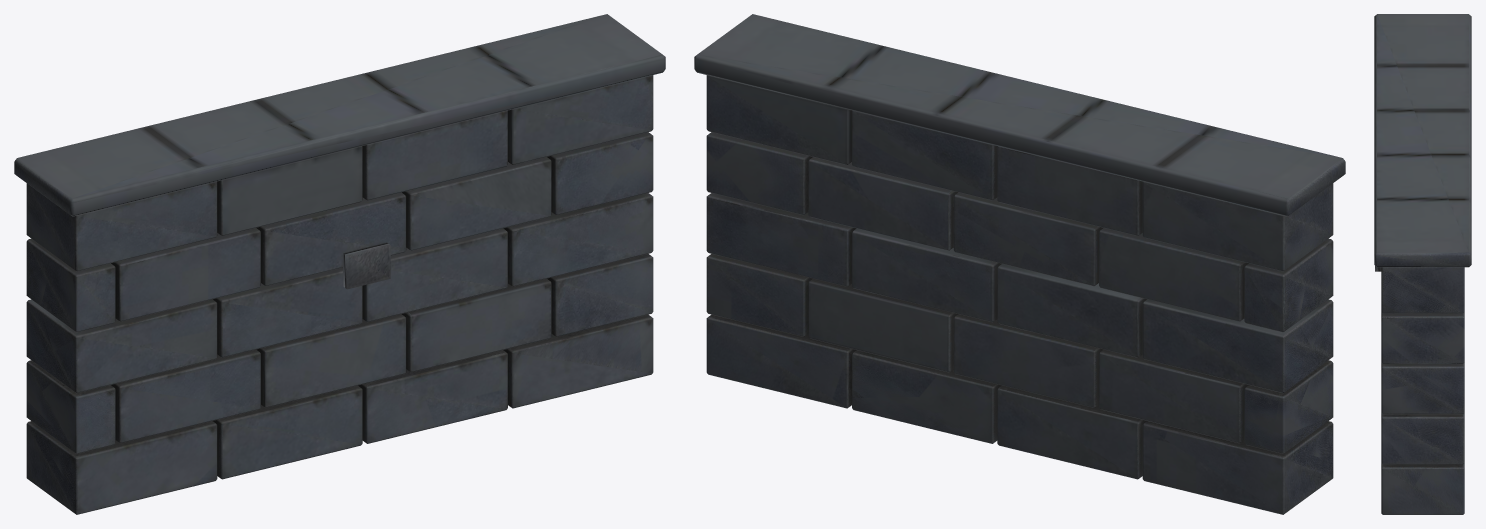
Rendered from wall_hob.glb.
The picture shows the model from 3 angles, left to right: view 1: azimuth 30°, elevation 25°; view 2: azimuth 150°, elevation 25°; view 3: azimuth 270°, elevation 25°; orthographic projection. The views are drawn at different scales.
Parts seen in each view (by area): view 1: wall_hob; view 2: wall_hob; view 3: wall_hob.
Boxes of the visible parts, x1,y1,x2,y2 form: wall_hob: [14, 14, 665, 514]; wall_hob: [694, 14, 1345, 514]; wall_hob: [1374, 14, 1471, 514].
Size of the model in its own units: 4.1 by 2.11 by 0.7.
Materials: 1 (1 with a texture image).
